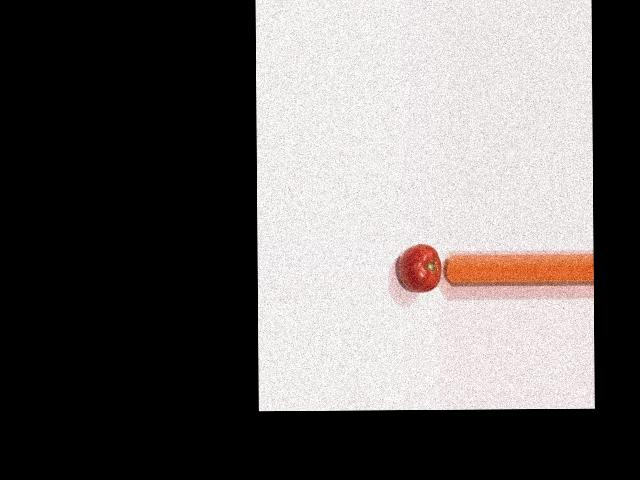tomato: (398, 243, 441, 292)
